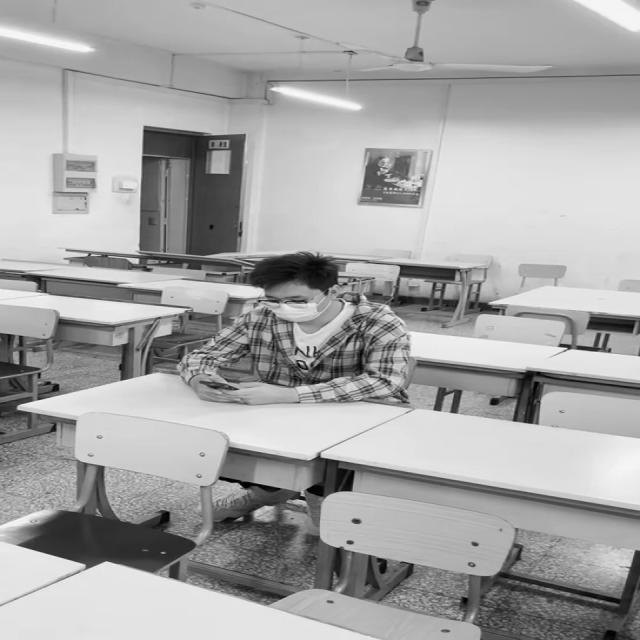phone: (180, 255, 414, 405)
